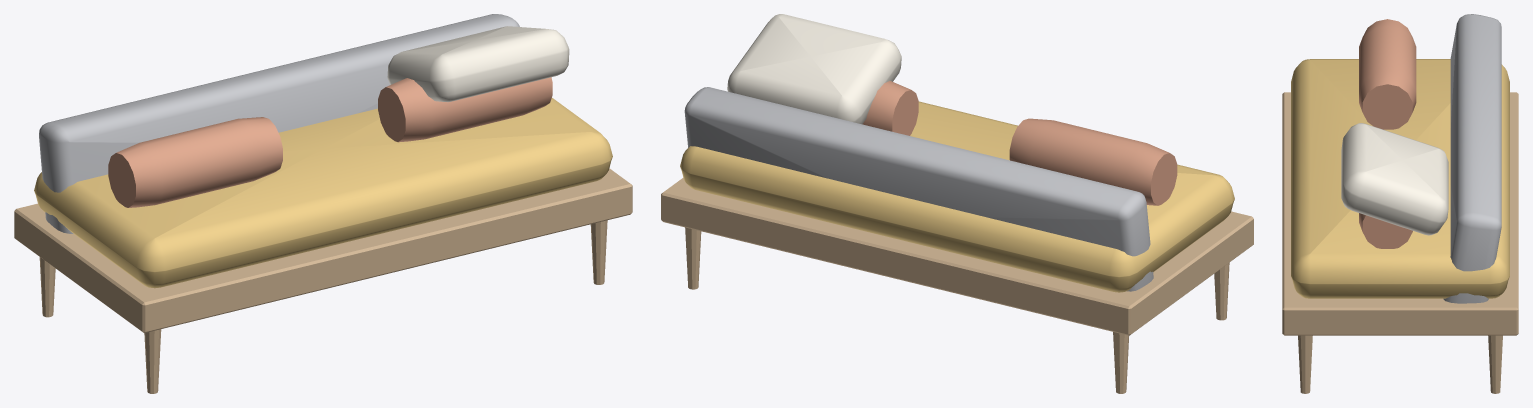
File: bedroom-and-living-room-furniture-daybed-lounger-5b1b610f.glb
The picture shows the model from 3 angles, left to right: view 1: azimuth 30°, elevation 25°; view 2: azimuth 150°, elevation 25°; view 3: azimuth 270°, elevation 25°; orthographic projection. The views are drawn at different scales.
Parts seen in each view (by area): view 1: daybed-lounger; view 2: daybed-lounger; view 3: daybed-lounger.
Part boxes in pixels (bbox=[...]): daybed-lounger: bbox=[14, 14, 632, 393]; daybed-lounger: bbox=[661, 14, 1253, 393]; daybed-lounger: bbox=[1282, 14, 1518, 393].
Bounding box in the file's own units: 2 × 0.9119 × 0.92.
